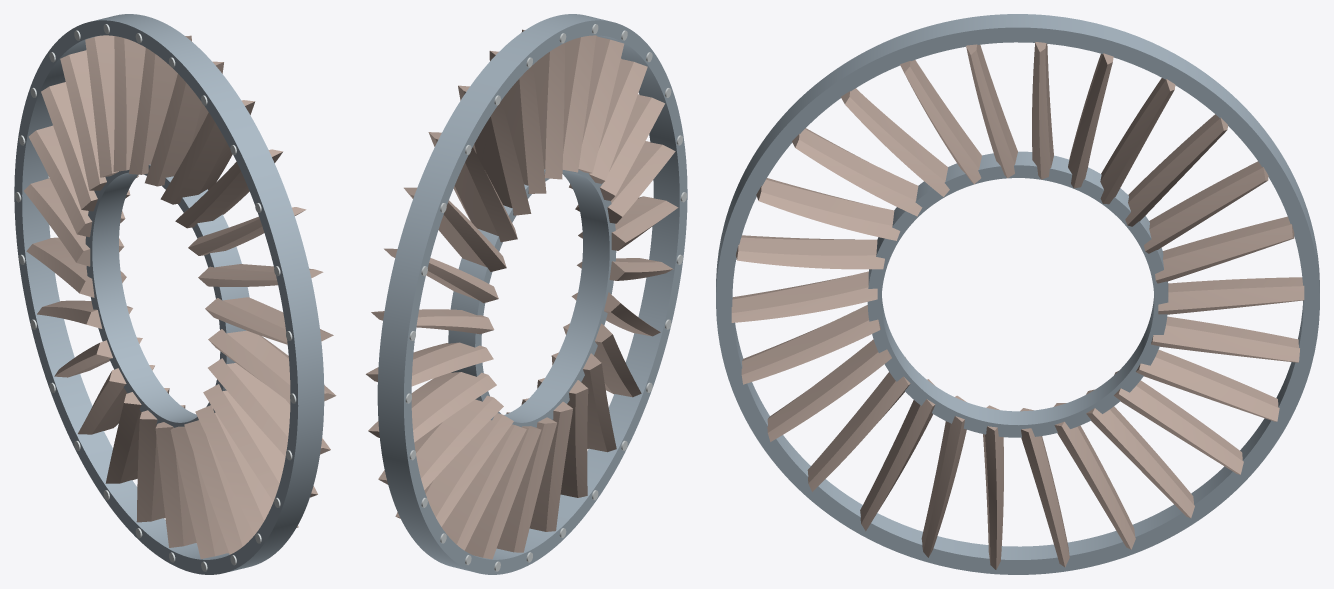
The model's file is turbine-nozzle-guide.glb.
The picture shows the model from 3 angles, left to right: view 1: azimuth 30°, elevation 25°; view 2: azimuth 150°, elevation 25°; view 3: azimuth 270°, elevation 25°; orthographic projection. The views are drawn at different scales.
Visible parts, largest first — view 1: turbine-nozzle-guide - heat, turbine-nozzle-guide - steel, turbine-nozzle-guide - fastener; view 2: turbine-nozzle-guide - heat, turbine-nozzle-guide - steel, turbine-nozzle-guide - fastener; view 3: turbine-nozzle-guide - heat, turbine-nozzle-guide - steel.
Part boxes in pixels (<box>): turbine-nozzle-guide - heat: <box>24,35,336,558</box>; turbine-nozzle-guide - steel: <box>14,14,324,574</box>; turbine-nozzle-guide - fastener: <box>14,24,296,571</box>; turbine-nozzle-guide - heat: <box>366,29,678,559</box>; turbine-nozzle-guide - steel: <box>377,14,687,574</box>; turbine-nozzle-guide - fastener: <box>405,24,686,571</box>; turbine-nozzle-guide - heat: <box>731,42,1304,569</box>; turbine-nozzle-guide - steel: <box>716,14,1319,574</box>.
Bounding box in the file's own units: 0.2062 × 1.69 × 1.69.
